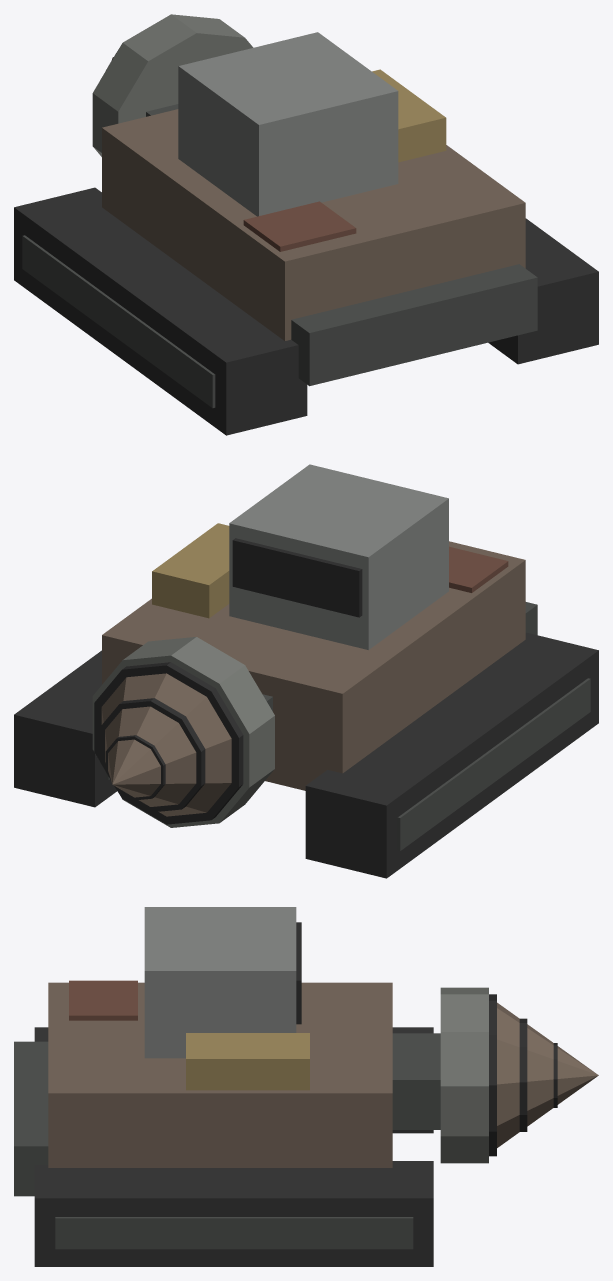
File: ancient_excavator.obj
3 views of the same model, one above another, from view 1: azimuth 30°, elevation 25°; view 2: azimuth 150°, elevation 25°; view 3: azimuth 270°, elevation 25° (orthographic). The views are drawn at different scales.
Parts seen in each view (by area): view 1: ancient_excavator; view 2: ancient_excavator; view 3: ancient_excavator.
Boxes of the visible parts, x1,y1,x2,y2 form: ancient_excavator: [14, 14, 598, 435]; ancient_excavator: [14, 464, 598, 878]; ancient_excavator: [14, 907, 598, 1266].
Bounding box in the file's own units: 2.98 × 1.85 × 4.25.
